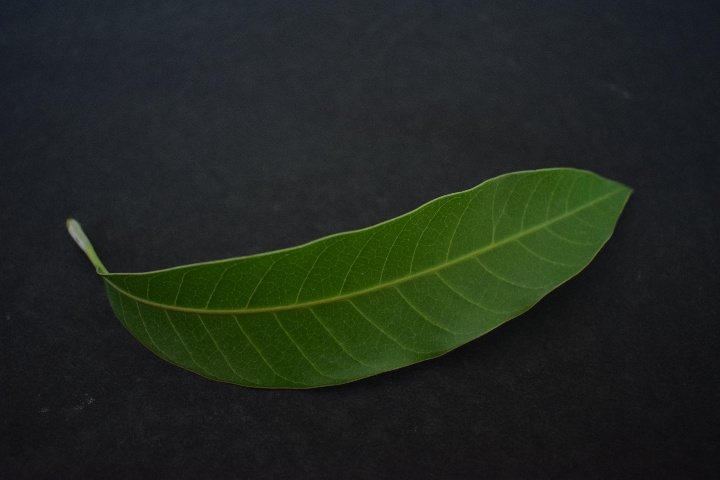healthy: (68, 160, 678, 384)
